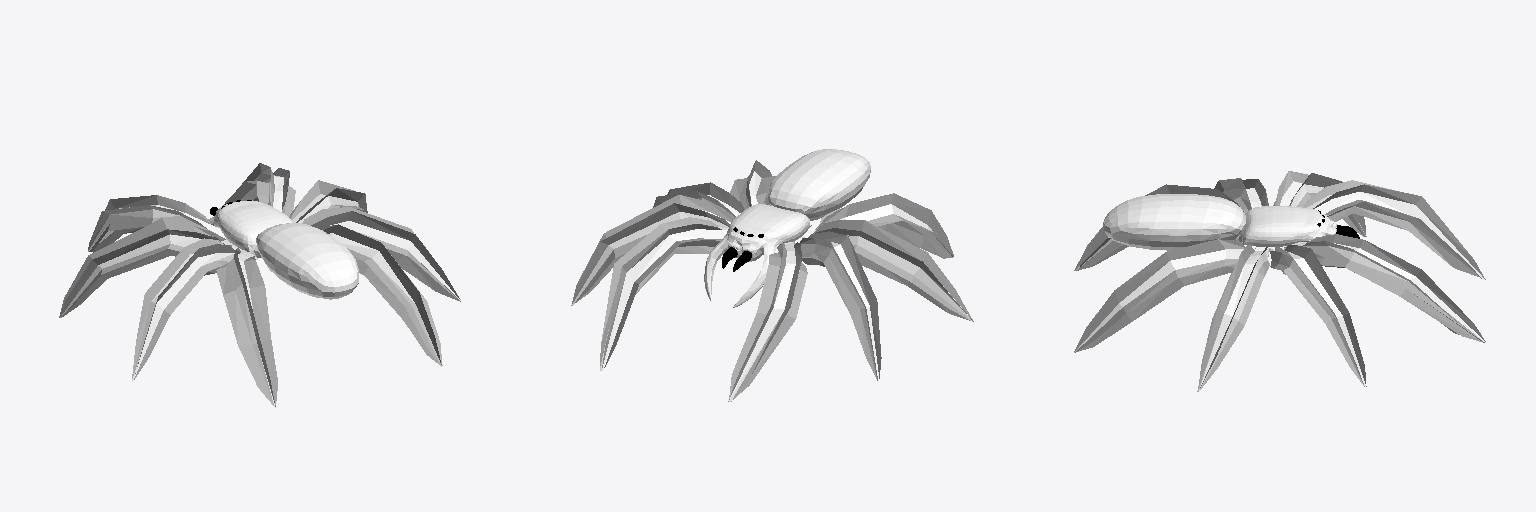
3 renders of one model, left to right at view 1: azimuth 30°, elevation 25°; view 2: azimuth 150°, elevation 25°; view 3: azimuth 270°, elevation 25°, orthographic.
Parts seen in each view (by area): view 1: Spider_Fur_Spider, Spider_Spider.005; view 2: Spider_Fur_Spider, Spider_Spider.005; view 3: Spider_Fur_Spider, Spider_Spider.005.
Boxes of the visible parts, box(x1,y1,x2,y2) form: Spider_Fur_Spider: box(59, 163, 460, 406); Spider_Spider.005: box(59, 173, 461, 407); Spider_Fur_Spider: box(571, 160, 973, 401); Spider_Spider.005: box(572, 149, 972, 401); Spider_Fur_Spider: box(1074, 171, 1485, 391); Spider_Spider.005: box(1074, 181, 1485, 391).
Bounding box in the file's own units: 1.84 × 0.5943 × 1.99.
Materials: 6 (1 with a texture image).